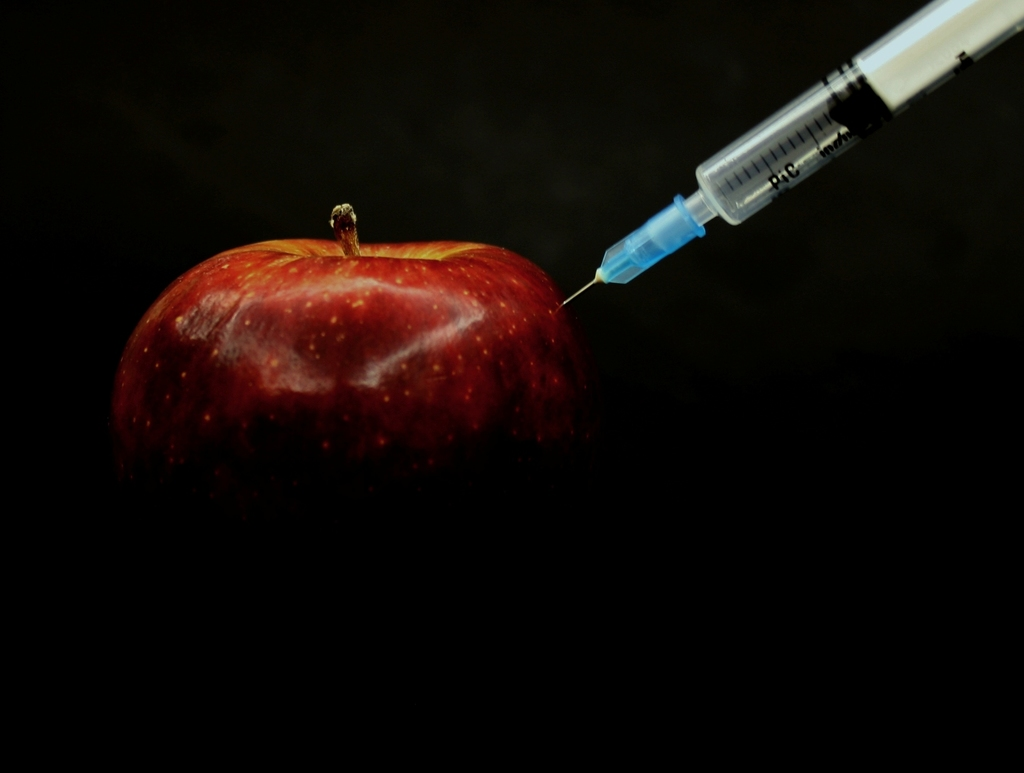Apple: (98, 192, 592, 531)
